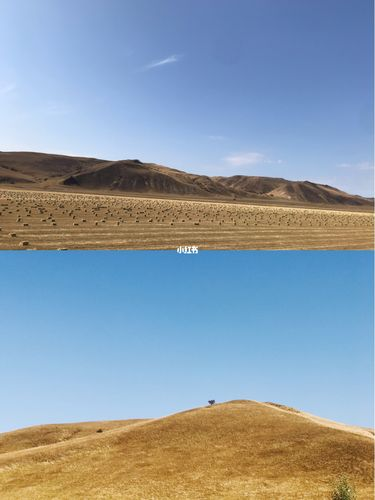mountain: (10, 396, 375, 500), (2, 146, 363, 214)
sky_cloud: (6, 275, 375, 398), (8, 45, 370, 153)
